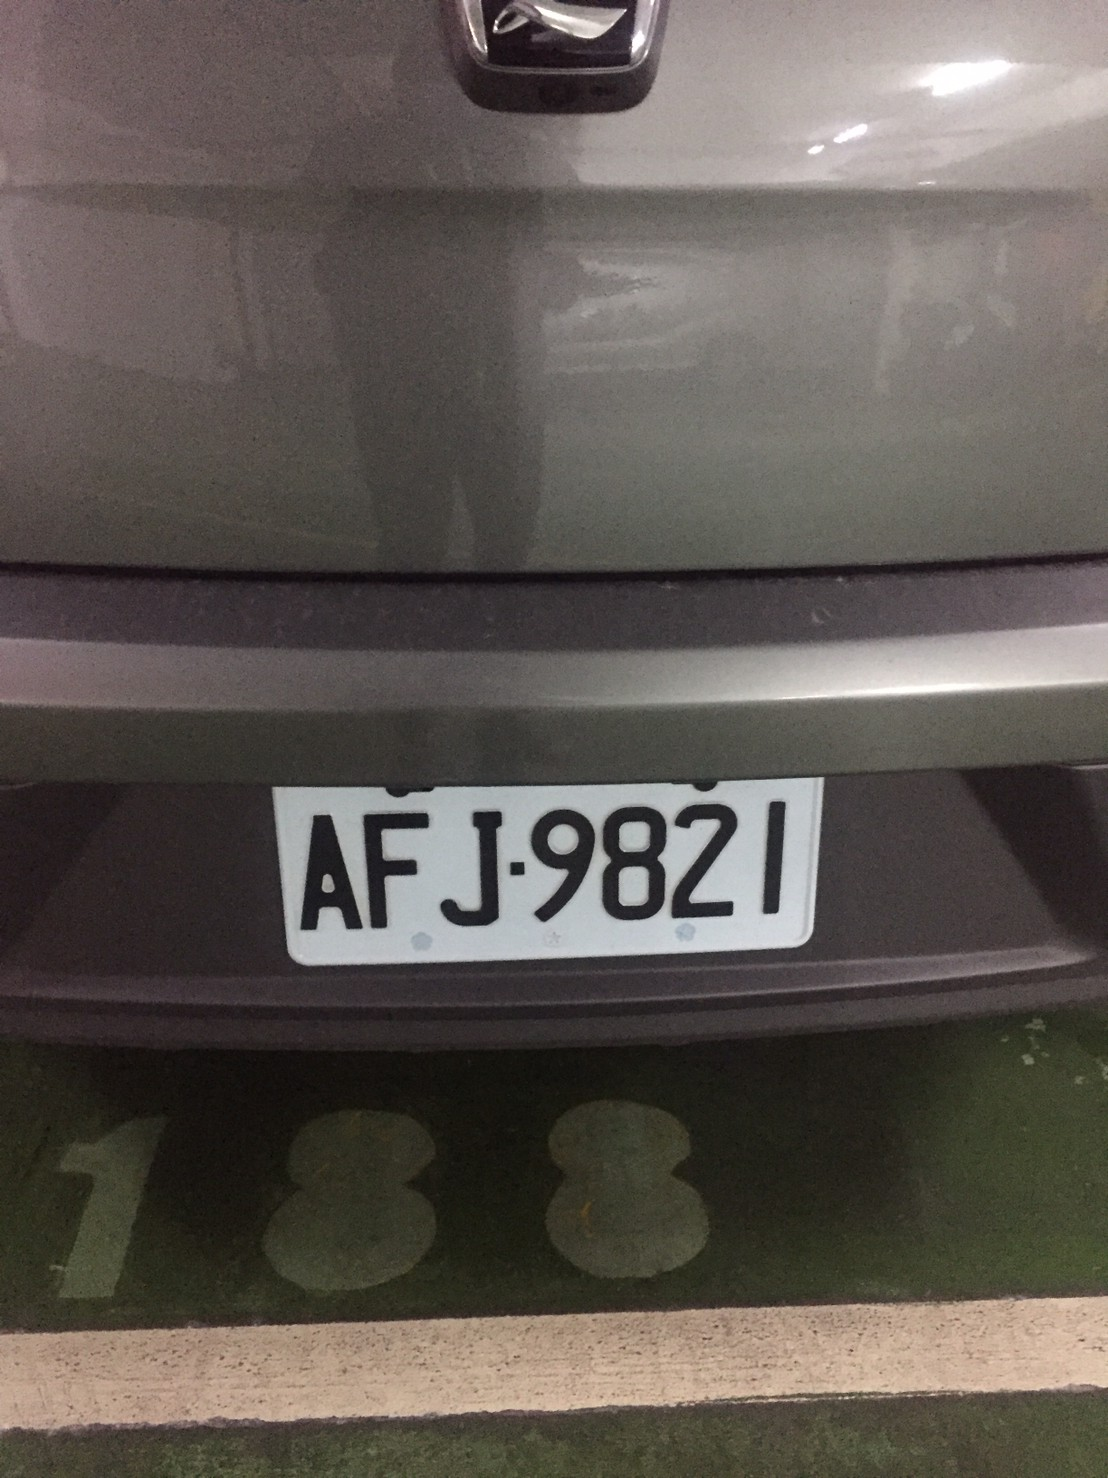LP: (270, 778, 820, 968)
